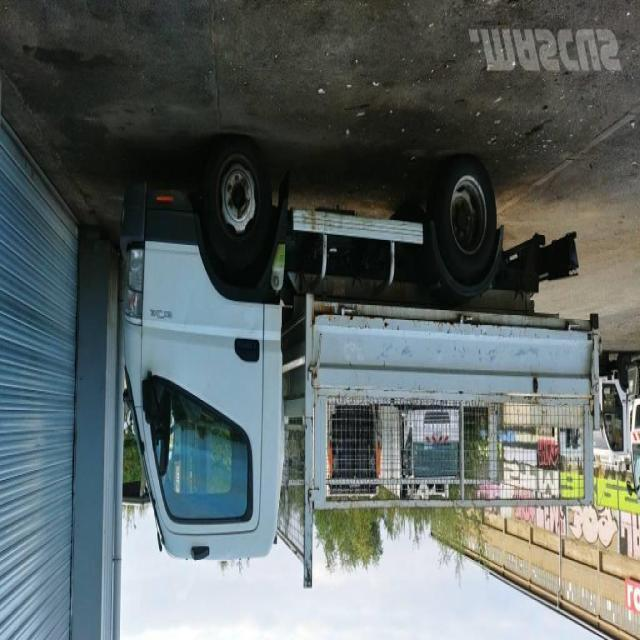truck: (116, 137, 602, 588)
